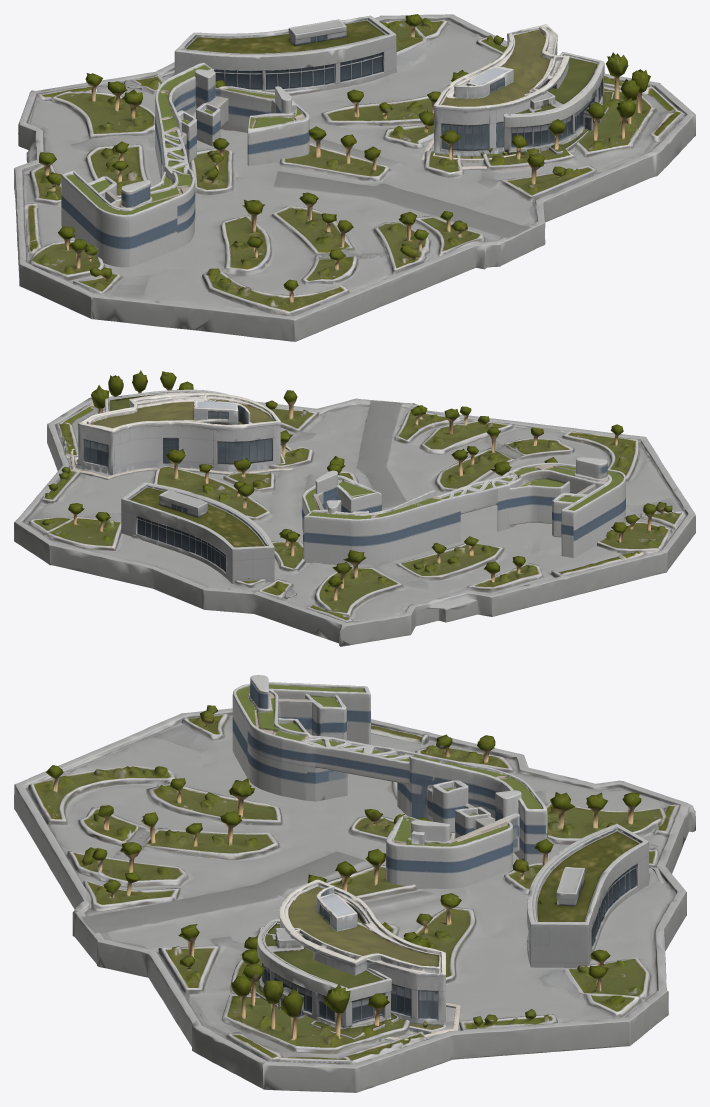
The model's file is sejong-gov.glb.
3 views of the same model, one above another, from view 1: azimuth 30°, elevation 25°; view 2: azimuth 150°, elevation 25°; view 3: azimuth 270°, elevation 25° (orthographic). The views are drawn at different scales.
Parts seen in each view (by area): view 1: tripo_node_a8c5c617-d09d-458c-a8b2-4e4407e5411b, tripo_node_f8c78be4-bb1c-4f1d-9f07-e82db777805a, tripo_node_fdc51fac-fe6e-40df-9372-3d4566741c4d, tripo_node_2fb19c3e-ee1d-4489-9981-3e9e68621d56, tripo_node_820b172a-5be9-4d6a-a63c-3335038aa49a; view 2: tripo_node_a8c5c617-d09d-458c-a8b2-4e4407e5411b, tripo_node_f8c78be4-bb1c-4f1d-9f07-e82db777805a, tripo_node_2fb19c3e-ee1d-4489-9981-3e9e68621d56, tripo_node_fdc51fac-fe6e-40df-9372-3d4566741c4d, tripo_node_820b172a-5be9-4d6a-a63c-3335038aa49a; view 3: tripo_node_a8c5c617-d09d-458c-a8b2-4e4407e5411b, tripo_node_f8c78be4-bb1c-4f1d-9f07-e82db777805a, tripo_node_2fb19c3e-ee1d-4489-9981-3e9e68621d56, tripo_node_fdc51fac-fe6e-40df-9372-3d4566741c4d, tripo_node_820b172a-5be9-4d6a-a63c-3335038aa49a.
Part boxes in pixels (x1,y1,x2,y2): tripo_node_a8c5c617-d09d-458c-a8b2-4e4407e5411b: (14,14,695,341); tripo_node_f8c78be4-bb1c-4f1d-9f07-e82db777805a: (61,62,309,267); tripo_node_fdc51fac-fe6e-40df-9372-3d4566741c4d: (160,15,396,96); tripo_node_2fb19c3e-ee1d-4489-9981-3e9e68621d56: (421,24,569,170); tripo_node_820b172a-5be9-4d6a-a63c-3335038aa49a: (503,52,613,155); tripo_node_a8c5c617-d09d-458c-a8b2-4e4407e5411b: (14,370,695,646); tripo_node_f8c78be4-bb1c-4f1d-9f07-e82db777805a: (302,457,625,565); tripo_node_2fb19c3e-ee1d-4489-9981-3e9e68621d56: (70,392,292,479); tripo_node_fdc51fac-fe6e-40df-9372-3d4566741c4d: (121,482,274,591); tripo_node_820b172a-5be9-4d6a-a63c-3335038aa49a: (105,389,227,411); tripo_node_a8c5c617-d09d-458c-a8b2-4e4407e5411b: (14,705,695,1092); tripo_node_f8c78be4-bb1c-4f1d-9f07-e82db777805a: (232,675,547,888); tripo_node_2fb19c3e-ee1d-4489-9981-3e9e68621d56: (279,879,460,1040); tripo_node_fdc51fac-fe6e-40df-9372-3d4566741c4d: (527,823,664,967); tripo_node_820b172a-5be9-4d6a-a63c-3335038aa49a: (247,918,398,1039).
Size of the model in its own units: 40 by 5.1 by 31.47.
Materials: 5 (5 with a texture image).
